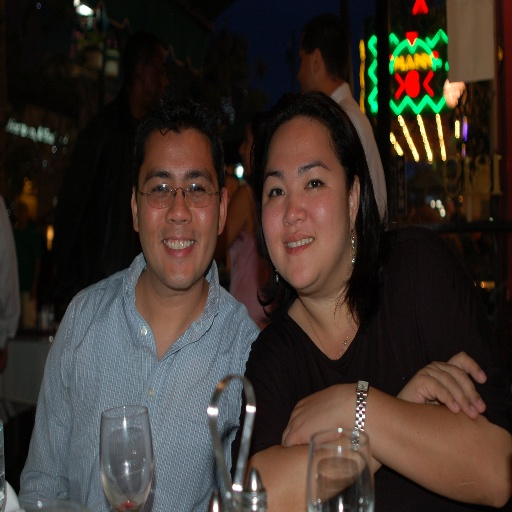hand: (397, 352, 487, 419), (280, 382, 357, 449)
